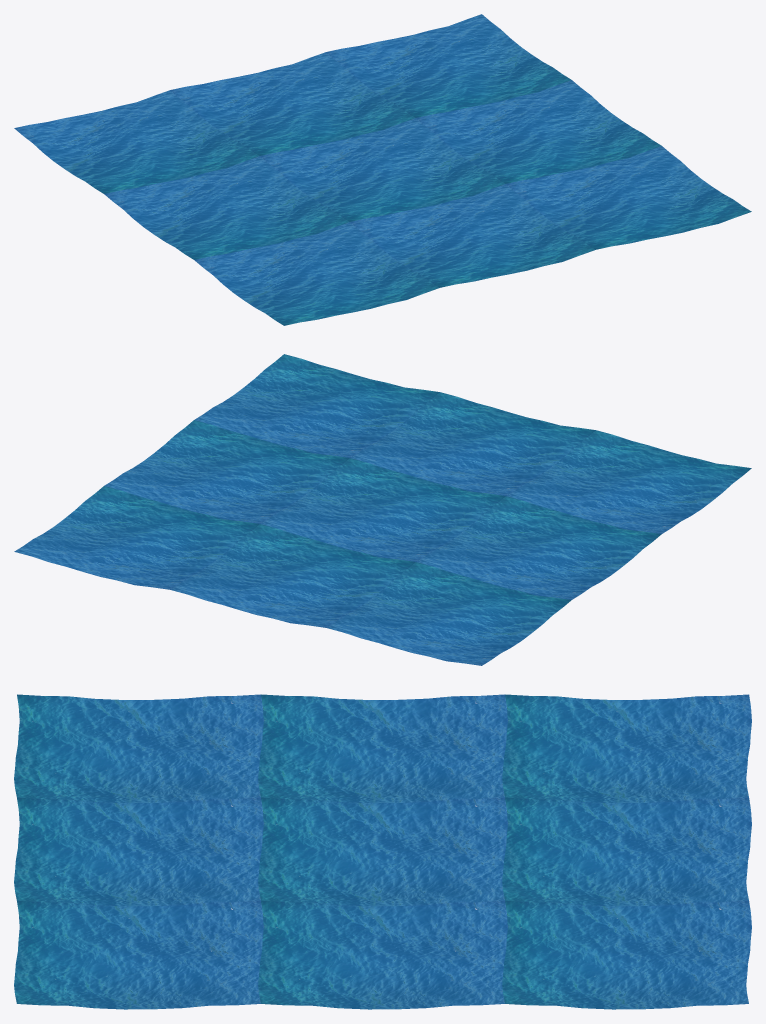
File: ocean_000215.obj
The picture shows the model from 3 angles, top to bottom: view 1: azimuth 30°, elevation 25°; view 2: azimuth 150°, elevation 25°; view 3: azimuth 270°, elevation 25°; orthographic projection. The views are drawn at different scales.
Visible parts, largest first — view 1: Ocean_Plan.001; view 2: Ocean_Plan.001; view 3: Ocean_Plan.001.
Part boxes in pixels (bbox=[...]): Ocean_Plan.001: bbox=[14, 14, 751, 325]; Ocean_Plan.001: bbox=[14, 354, 751, 665]; Ocean_Plan.001: bbox=[14, 694, 751, 1009].
Bounding box in the file's own units: 109036 × 1845 × 109826.
Materials: 1 (1 with a texture image).
